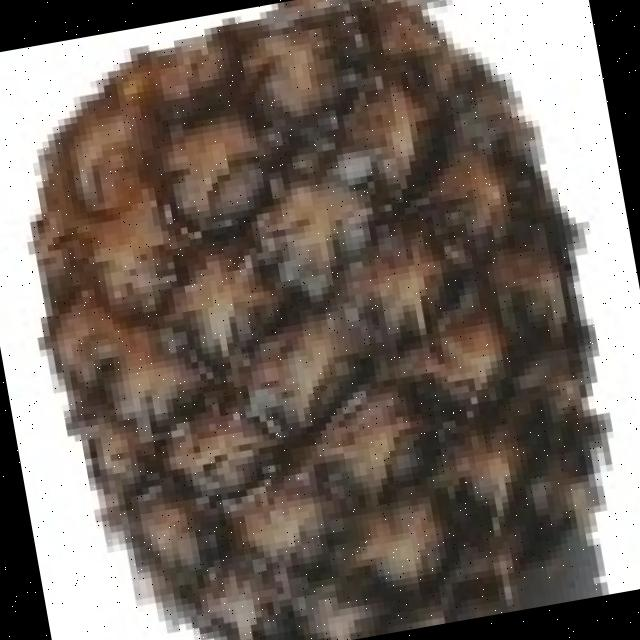pineapple: (33, 0, 605, 640)
